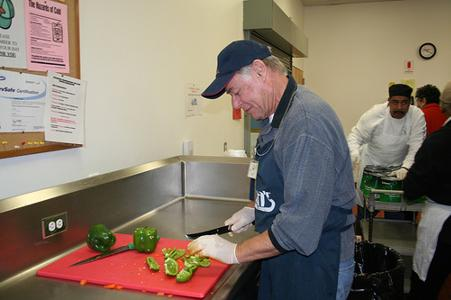person: (186, 40, 359, 300)
